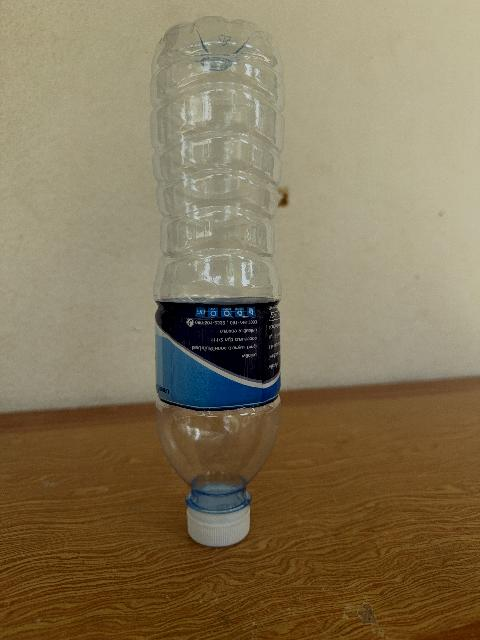bottle: (150, 17, 282, 546)
